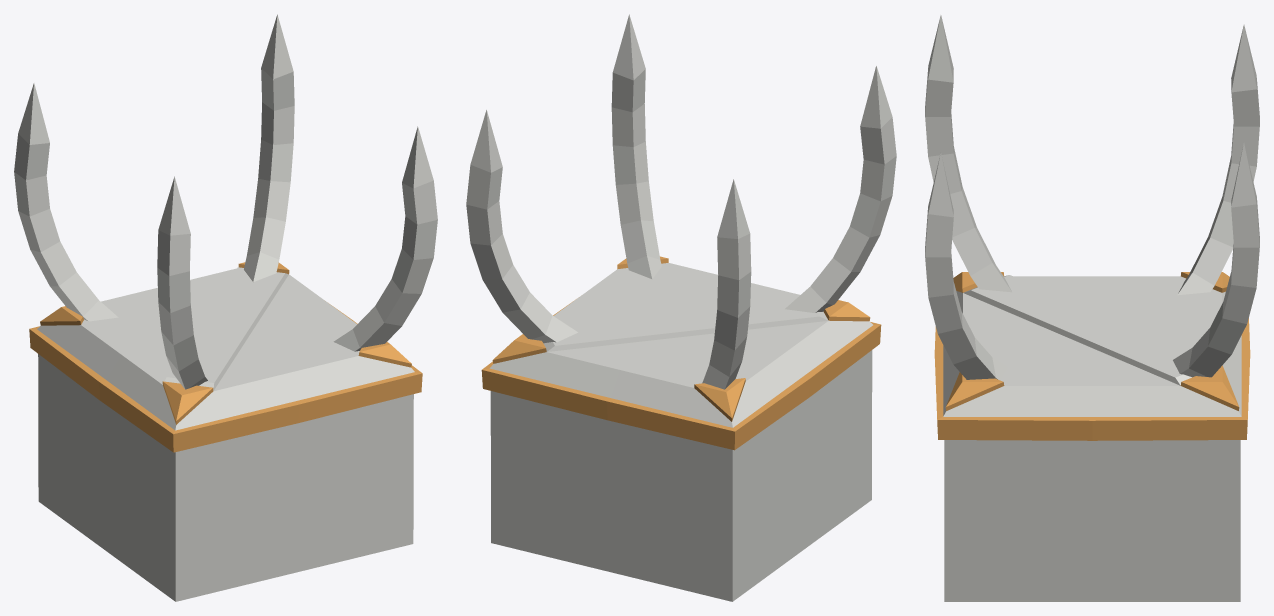
The model's file is Tower1Up.fbx.
3 renders of one model, left to right at view 1: azimuth 30°, elevation 25°; view 2: azimuth 150°, elevation 25°; view 3: azimuth 270°, elevation 25°, orthographic. The views are drawn at different scales.
Parts seen in each view (by area): view 1: DefTower2Up.001; view 2: DefTower2Up.001; view 3: DefTower2Up.001.
Part boxes in pixels (x1,y1,x2,y2): DefTower2Up.001: (14,14,437,601); DefTower2Up.001: (466,14,896,601); DefTower2Up.001: (925,15,1259,601).
Size of the model in its own units: 399 by 607 by 399.
